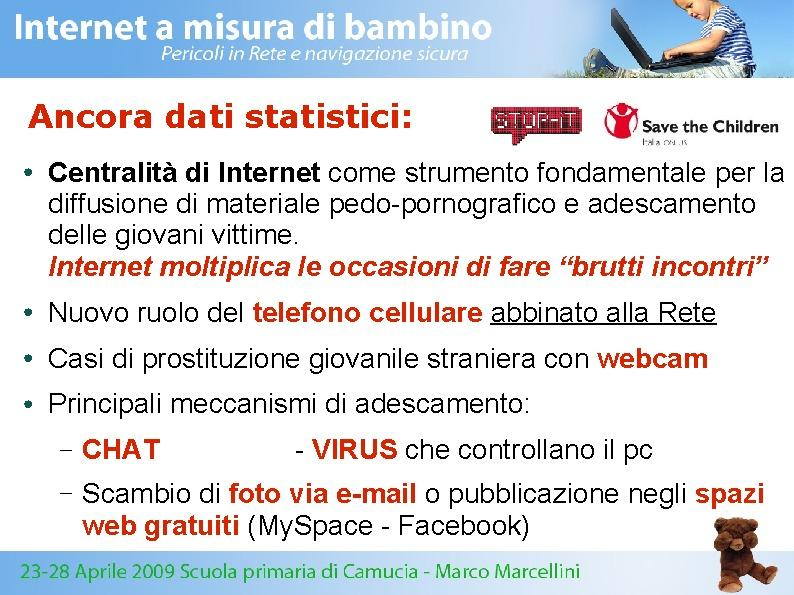paragraph: (9, 148, 791, 548)
subtitle: (23, 87, 431, 144), (17, 554, 593, 590)
title: (9, 6, 502, 72)
